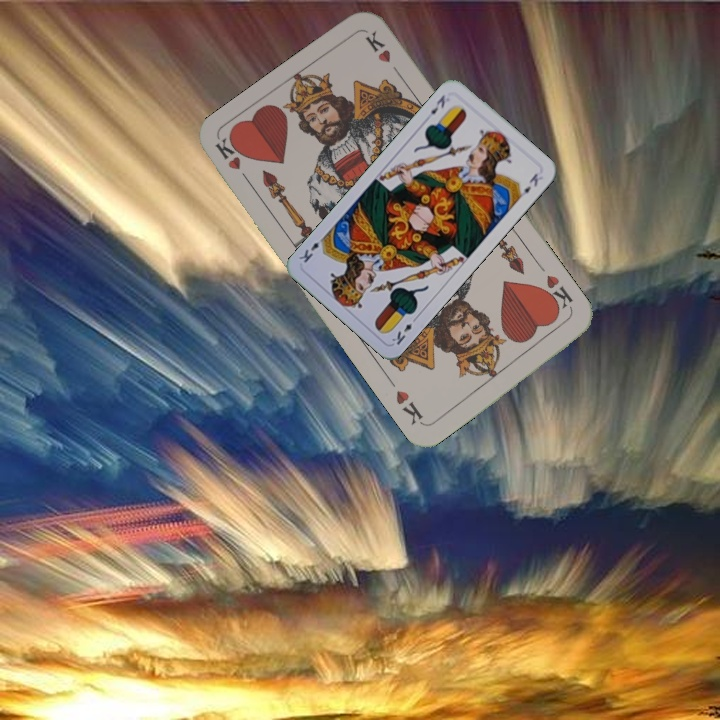EK: (387, 312, 420, 348), (426, 91, 448, 117)
HK: (211, 133, 255, 189), (536, 271, 577, 317)
